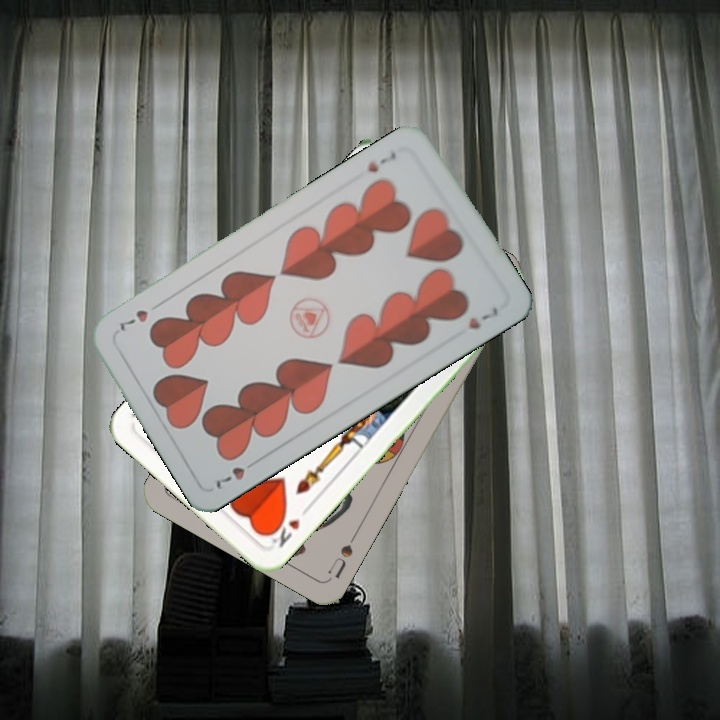H7: (211, 454, 261, 492), (363, 147, 399, 176)
HK: (264, 502, 313, 551)
SU: (323, 528, 360, 582)
